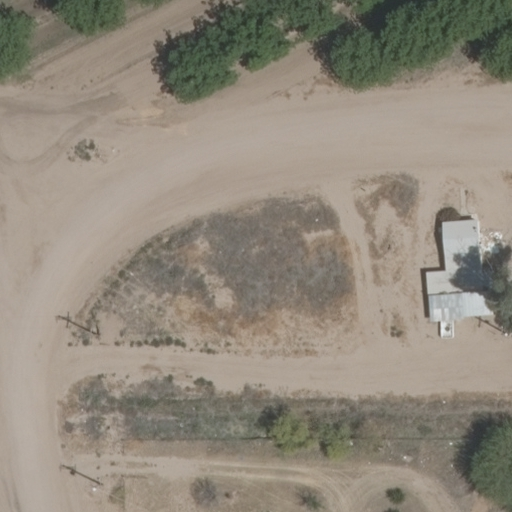DT: (83, 315, 107, 339), (86, 472, 110, 495), (499, 318, 512, 342)
